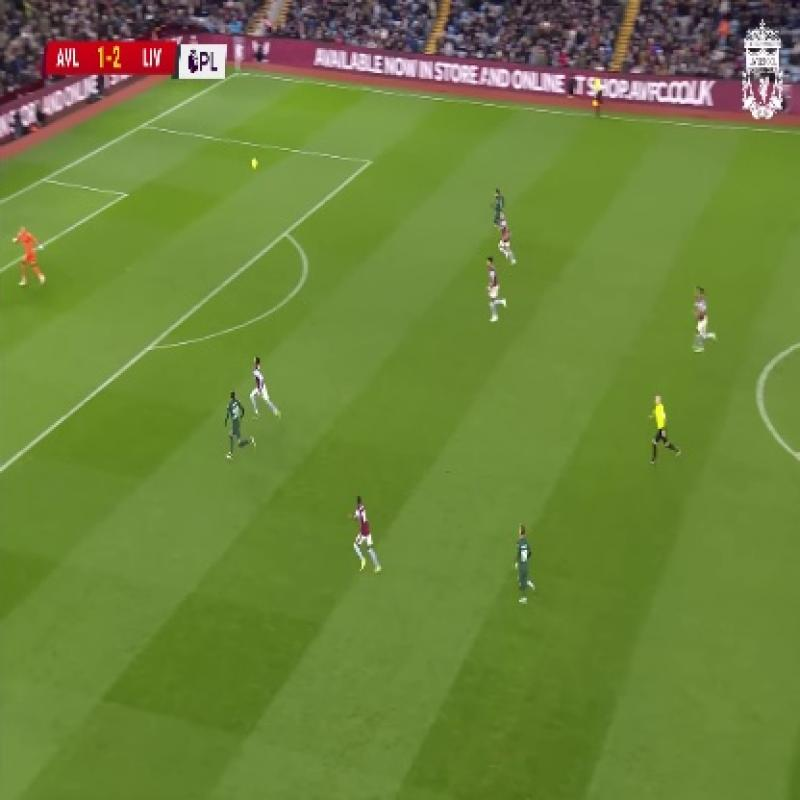1: (229, 63, 250, 79)
10: (275, 219, 294, 244)
11: (138, 330, 160, 358)
2: (133, 114, 152, 134)
3: (34, 168, 52, 188)
7: (116, 183, 132, 204)
9: (360, 148, 378, 173)
c: (741, 368, 779, 412)
